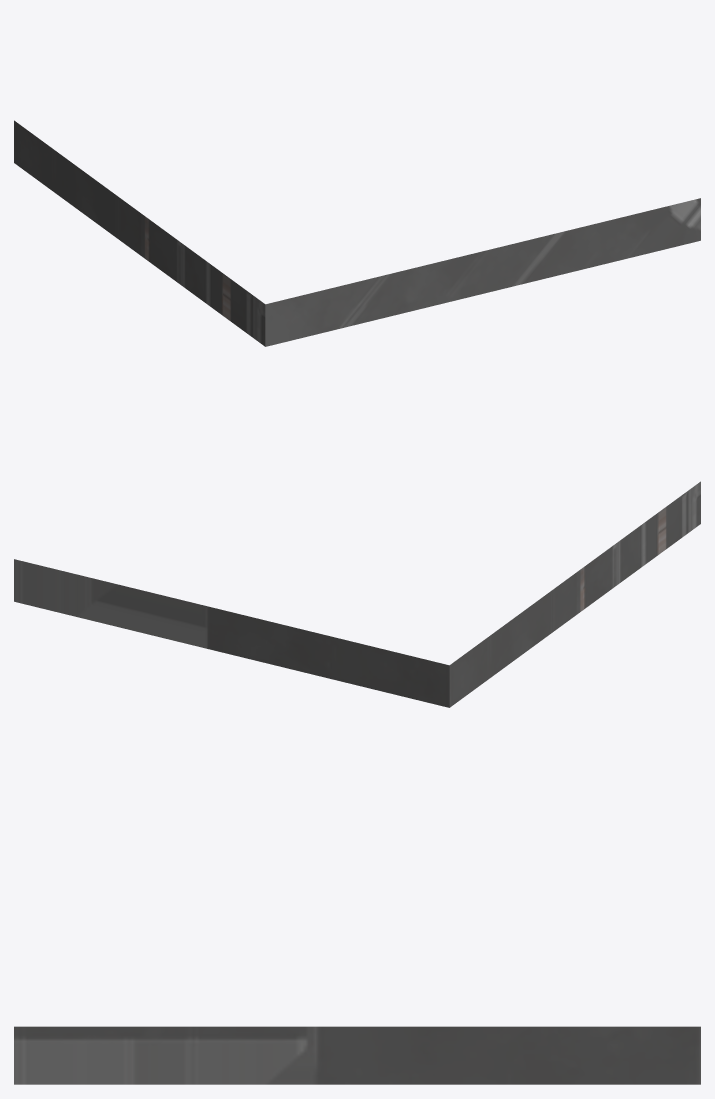
The model's file is SM_Props_Vent_01.glb.
3 views of the same model, one above another, from view 1: azimuth 30°, elevation 25°; view 2: azimuth 150°, elevation 25°; view 3: azimuth 270°, elevation 25° (orthographic). The views are drawn at different scales.
Parts seen in each view (by area): view 1: SM_Props_Vent_01; view 2: SM_Props_Vent_01; view 3: SM_Props_Vent_01.
Boxes of the visible parts, x1,y1,x2,y2 form: SM_Props_Vent_01: [14, 120, 700, 346]; SM_Props_Vent_01: [14, 481, 700, 707]; SM_Props_Vent_01: [14, 1026, 700, 1084].
Size of the model in its own units: 0.6 by 0.0656 by 0.6.
1 material, 1 textured.
